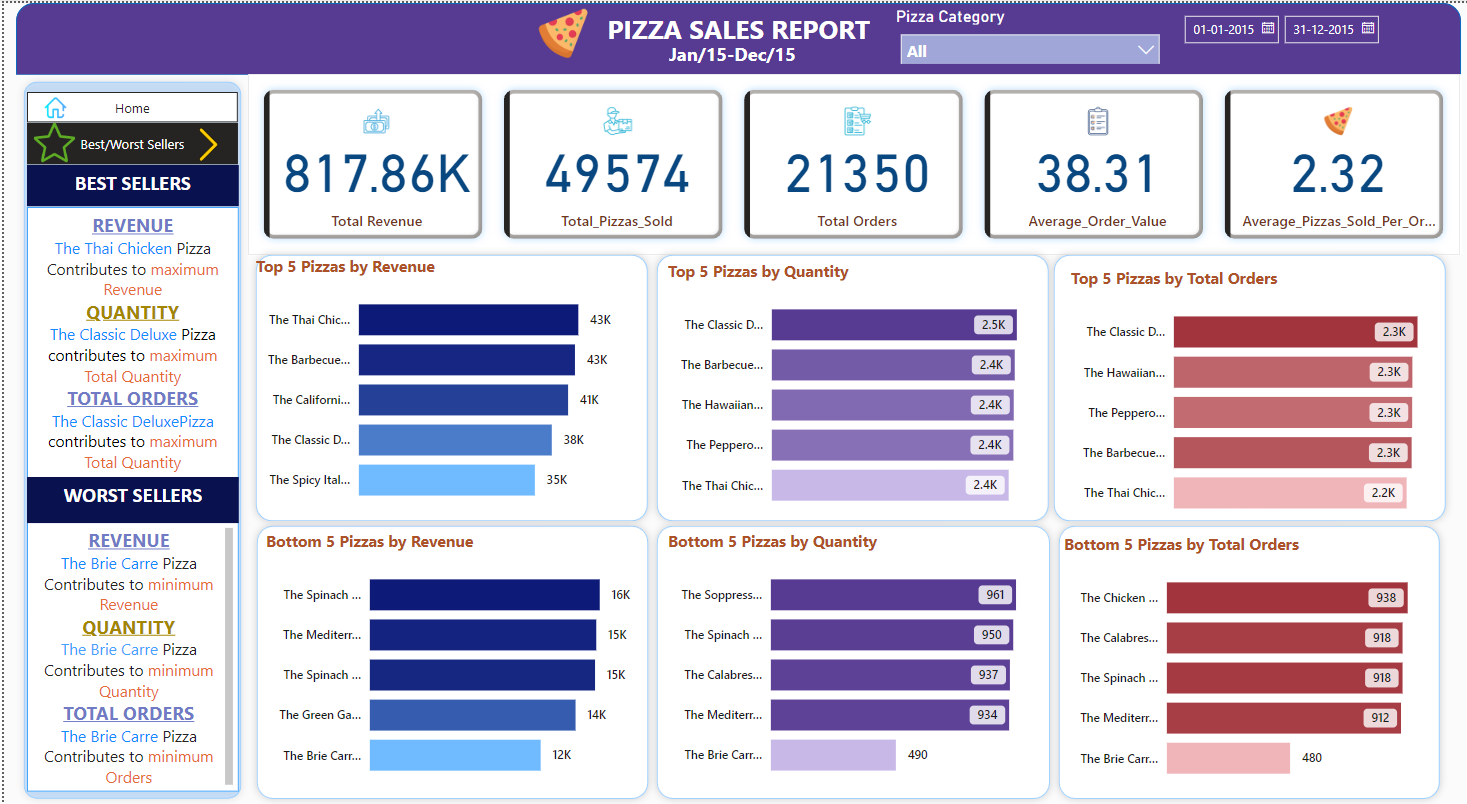

This screenshot's page, from the dashboard's own definition file:
{"tool":"powerbi","page":{"name":"Best/Worst Sellers","canvas":[1500,820],"ordinal":1},"visuals":[{"type":"cardVisual","fields":{"Data":["pizza_sales pizza_sales.Total Revenue","pizza_sales pizza_sales.Total_Pizzas_Sold","pizza_sales pizza_sales.Total Orders","pizza_sales pizza_sales.Average_Order_Value","pizza_sales pizza_sales.Average_Pizzas_Sold_Per_Order"]},"box":[250.2,72.8,1236.8,182.8],"z":0},{"type":"shape","box":[12.5,0,1473.8,73.5],"z":1000},{"type":"textbox","box":[593.3,3.3,311.7,58.3],"z":2000},{"type":"textbox","box":[673.3,33.3,151.7,40],"z":3000},{"type":"image","box":[530,0,80,61.7],"z":4000},{"type":"shape","box":[250.2,525.2,415.2,294.6],"z":5000},{"type":"shape","box":[658.3,525.2,417,294.6],"z":6000},{"type":"shape","box":[1068.2,525.2,404.6,294.6],"z":7000},{"type":"shape","box":[12.4,72.8,237.8,747],"z":8000},{"type":"textbox","box":[23.4,165.7,215.7,42.2],"z":9000},{"type":"textbox","box":[23.4,207.9,215.7,279.8],"z":10000},{"type":"cardVisual","fields":{"Data":["pizza_sales pizza_sales.Total Revenue","pizza_sales pizza_sales.Total_Pizzas_Sold","pizza_sales pizza_sales.Total Orders","pizza_sales pizza_sales.Average_Order_Value","pizza_sales pizza_sales.Average_Pizzas_Sold_Per_Order"]},"box":[248.4,72.8,1236.8,184.5],"z":11000},{"type":"textbox","box":[23.4,529.8,215.7,275.1],"z":12000},{"type":"textbox","box":[23.4,482.9,215.7,46.9],"z":13000},{"type":"slicer","title":"Pizza Category","fields":{"Values":["pizza_sales pizza_sales.pizza_category"]},"box":[905,3.5,283.9,58.6],"z":14000},{"type":"slicer","title":"Pizza Category","fields":{"Values":["pizza_sales pizza_sales.order_date"]},"box":[1191,3.1,220.4,71.9],"z":15000},{"type":"shape","box":[248.5,248.5,415.7,287.6],"z":16000},{"type":"shape","box":[658,248.5,415.7,287.6],"z":17000},{"type":"shape","box":[1062.8,248.5,415.7,287.6],"z":18000},{"type":"clusteredBarChart","title":"Top 5 Pizzas by Revenue ","fields":{"Category":["pizza_sales pizza_sales.pizza_name"],"Y":["pizza_sales pizza_sales.Total Revenue"]},"box":[251.4,256.9,389.9,267.8],"z":19000},{"type":"clusteredBarChart","title":"Bottom 5 Pizzas by Revenue ","fields":{"Category":["pizza_sales pizza_sales.pizza_name"],"Y":["pizza_sales pizza_sales.Total Revenue"]},"box":[262.6,537.7,390.4,267.9],"z":20000},{"type":"clusteredBarChart","title":"Top 5 Pizzas by Quantity","fields":{"Category":["pizza_sales pizza_sales.pizza_name"],"Y":["pizza_sales pizza_sales.Total_Pizzas_Sold"]},"box":[672.5,262.6,390.4,267.9],"z":21000},{"type":"clusteredBarChart","title":"Bottom 5 Pizzas by Quantity","fields":{"Category":["pizza_sales pizza_sales.pizza_name"],"Y":["pizza_sales pizza_sales.Total_Pizzas_Sold"]},"box":[672.3,537.5,389.9,267.8],"z":22000},{"type":"clusteredBarChart","title":"Top 5 Pizzas by Total Orders","fields":{"Category":["pizza_sales pizza_sales.pizza_name"],"Y":["pizza_sales pizza_sales.Total Orders"]},"box":[1083.1,268.8,389.2,268.8],"z":23000},{"type":"clusteredBarChart","title":"Bottom 5 Pizzas by Total Orders","fields":{"Category":["pizza_sales pizza_sales.pizza_name"],"Y":["pizza_sales pizza_sales.Total Orders"]},"box":[1076.3,540.4,387.6,268],"z":24000},{"type":"pageNavigator","box":[23.4,90.6,215.7,31.3],"z":25000},{"type":"pageNavigator","box":[23.4,121.9,215.7,42.2],"z":26000},{"type":"image","box":[184.5,122.4,47.9,44.4],"z":27000},{"type":"image","box":[28.4,90.5,47.9,31.9],"z":27001},{"type":"image","box":[25,115.7,51.6,54.7],"z":27002}]}

Visuals, with their boxes in screenshot pixels (x1, y1, x2, y2), scaled from the page's 1500x820 canvas onto the 1467x804 screenshot:
cardVisual - pizza_sales pizza_sales.Total Revenue x pizza_sales pizza_sales.Total_Pizzas_Sold: [245,71,1454,251]
shape: [12,0,1454,72]
textbox: [580,3,885,60]
textbox: [658,33,807,72]
image: [518,0,597,60]
shape: [245,515,651,803]
shape: [644,515,1052,803]
shape: [1045,515,1440,803]
shape: [12,71,245,803]
textbox: [23,162,234,204]
textbox: [23,204,234,478]
cardVisual - pizza_sales pizza_sales.Total Revenue x pizza_sales pizza_sales.Total_Pizzas_Sold: [243,71,1453,252]
textbox: [23,519,234,789]
textbox: [23,473,234,519]
"Pizza Category" slicer: [885,3,1163,61]
"Pizza Category" slicer: [1165,3,1380,74]
shape: [243,244,650,526]
shape: [644,244,1050,526]
shape: [1039,244,1446,526]
"Top 5 Pizzas by Revenue " clusteredBarChart: [246,252,627,514]
"Bottom 5 Pizzas by Revenue " clusteredBarChart: [257,527,639,790]
"Top 5 Pizzas by Quantity" clusteredBarChart: [658,257,1040,520]
"Bottom 5 Pizzas by Quantity" clusteredBarChart: [658,527,1039,790]
"Top 5 Pizzas by Total Orders" clusteredBarChart: [1059,264,1440,527]
"Bottom 5 Pizzas by Total Orders" clusteredBarChart: [1053,530,1432,793]
pageNavigator: [23,89,234,120]
pageNavigator: [23,120,234,161]
image: [180,120,227,164]
image: [28,89,75,120]
image: [24,113,75,167]
